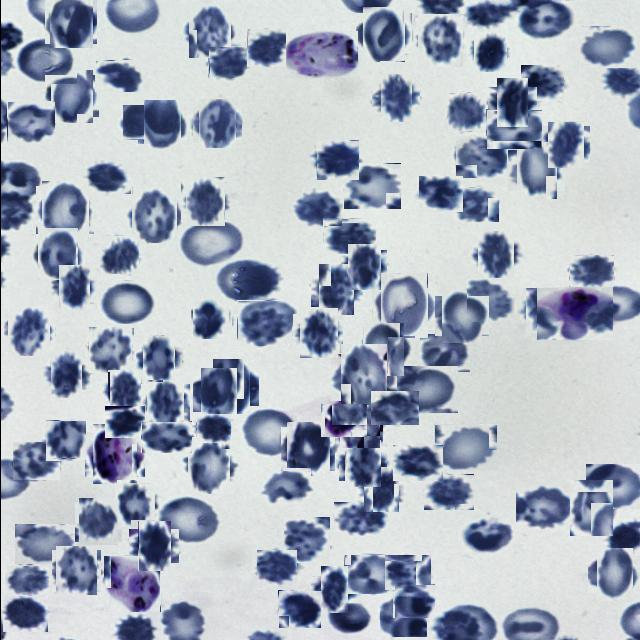red blood cell: (176, 219, 246, 268), (334, 350, 392, 406), (157, 496, 221, 546), (375, 278, 432, 334), (392, 366, 457, 413), (237, 408, 299, 457), (433, 424, 496, 470), (14, 38, 76, 84), (38, 184, 90, 236), (127, 190, 179, 242), (342, 163, 400, 209), (217, 260, 282, 301), (515, 485, 574, 530), (96, 280, 154, 324), (236, 300, 291, 346), (182, 440, 232, 490), (282, 424, 332, 474), (414, 16, 464, 66), (14, 524, 76, 564), (585, 464, 640, 509), (358, 10, 408, 59), (565, 483, 615, 532), (580, 26, 638, 68), (511, 146, 560, 195), (47, 72, 95, 120), (359, 326, 407, 374), (185, 8, 232, 56), (343, 554, 399, 594), (485, 110, 541, 150), (454, 135, 506, 178), (34, 230, 80, 278), (438, 292, 484, 340), (45, 0, 94, 45), (208, 364, 254, 411), (6, 308, 52, 354), (283, 517, 329, 563), (52, 548, 98, 594), (6, 101, 54, 145), (87, 327, 132, 372), (591, 552, 636, 597), (466, 278, 512, 322), (182, 180, 227, 224), (380, 596, 428, 637), (112, 484, 156, 528), (314, 268, 358, 312), (296, 312, 340, 356), (196, 372, 240, 416), (322, 218, 375, 254), (419, 334, 469, 372), (195, 102, 238, 146), (76, 500, 119, 544), (140, 103, 183, 147), (462, 520, 515, 555), (142, 382, 186, 424), (333, 502, 387, 536), (422, 474, 473, 510), (293, 188, 341, 226), (121, 104, 171, 140), (392, 445, 442, 481), (12, 442, 59, 480), (474, 234, 516, 276), (132, 526, 174, 568), (342, 442, 384, 484), (544, 123, 586, 165), (262, 468, 310, 504), (315, 140, 358, 180), (383, 554, 430, 590), (450, 187, 498, 222), (491, 83, 532, 123), (277, 590, 320, 628), (82, 160, 130, 194), (140, 421, 191, 453), (370, 391, 418, 425), (2, 596, 47, 632), (256, 550, 296, 590), (343, 247, 383, 287), (45, 354, 85, 394), (361, 470, 401, 510), (375, 78, 415, 118), (340, 407, 380, 447), (418, 176, 462, 212), (44, 421, 84, 460), (246, 28, 286, 67), (520, 65, 563, 101), (94, 60, 142, 92), (139, 338, 178, 377), (54, 268, 92, 308), (521, 291, 561, 329), (568, 254, 613, 287), (191, 300, 230, 338), (446, 93, 484, 132), (99, 236, 138, 274), (104, 372, 142, 410), (327, 602, 372, 634), (393, 584, 434, 618), (471, 33, 508, 70), (316, 571, 352, 608), (5, 565, 48, 595), (104, 406, 144, 438), (207, 46, 246, 78), (195, 413, 230, 443)
trophozoite: (535, 286, 612, 340), (284, 31, 357, 78), (103, 556, 160, 612), (88, 428, 140, 481), (323, 400, 363, 440)
